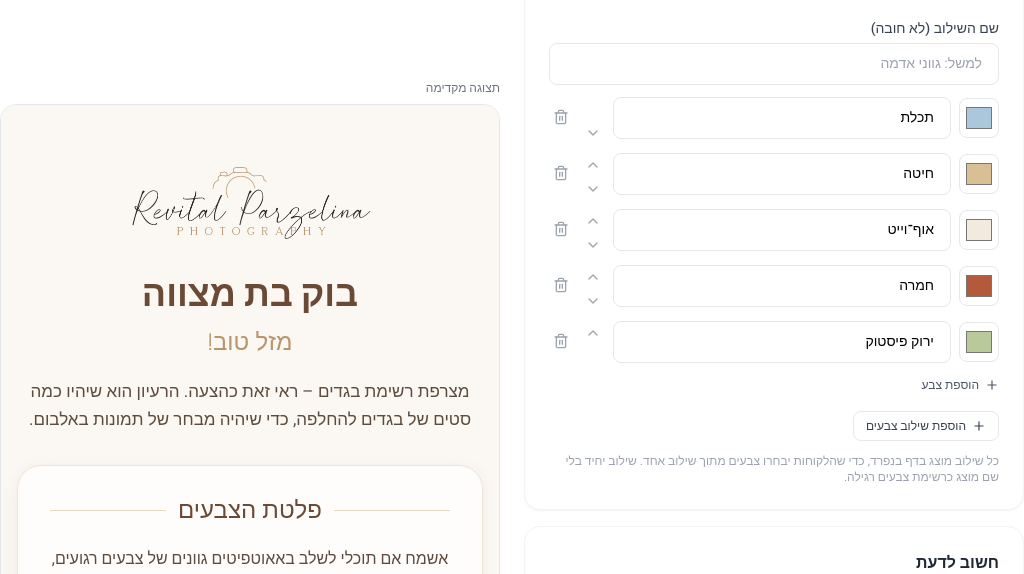
Test: DressGuideEditor › a colour name suggests its swatch
(page scrolled)
Click the button "הוספת צבע": (960, 385) 922,377 -> 999,393
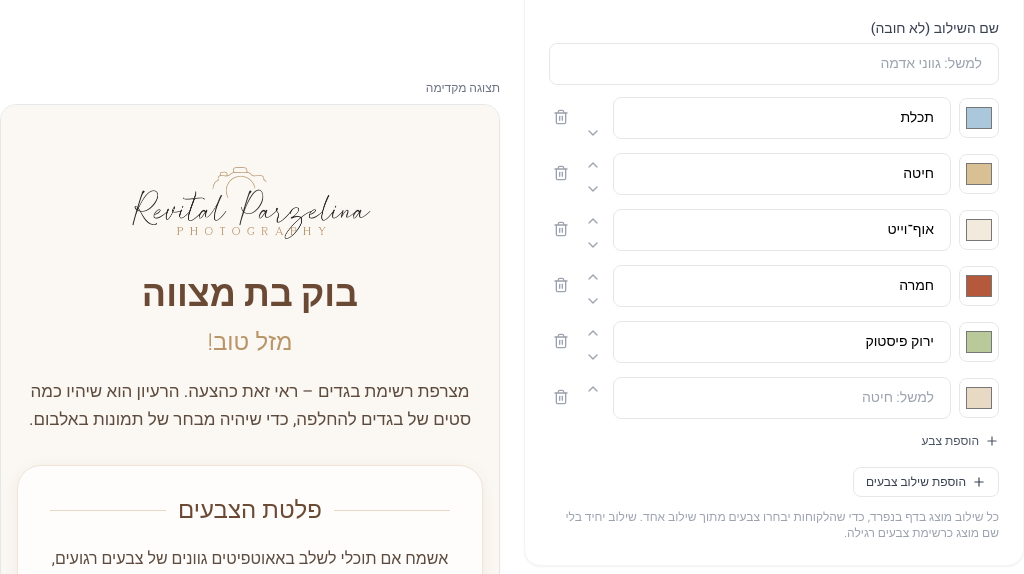
In the field named "שם צבע 6": (782, 398) 613,377 -> 951,419, type "חום"
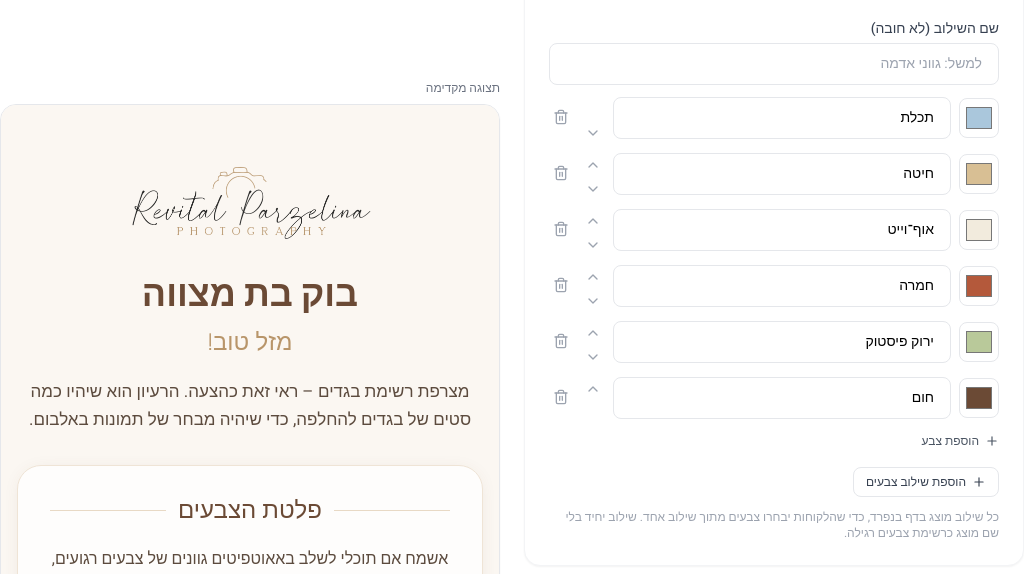
Check: the colour field named "גוון לצבע 6" holds "#6b4a35", box 959,378 -> 999,418
